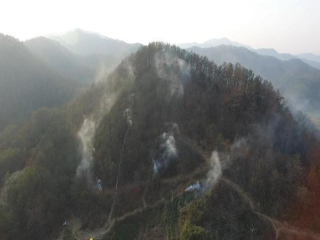smoke: (76, 51, 226, 198)
